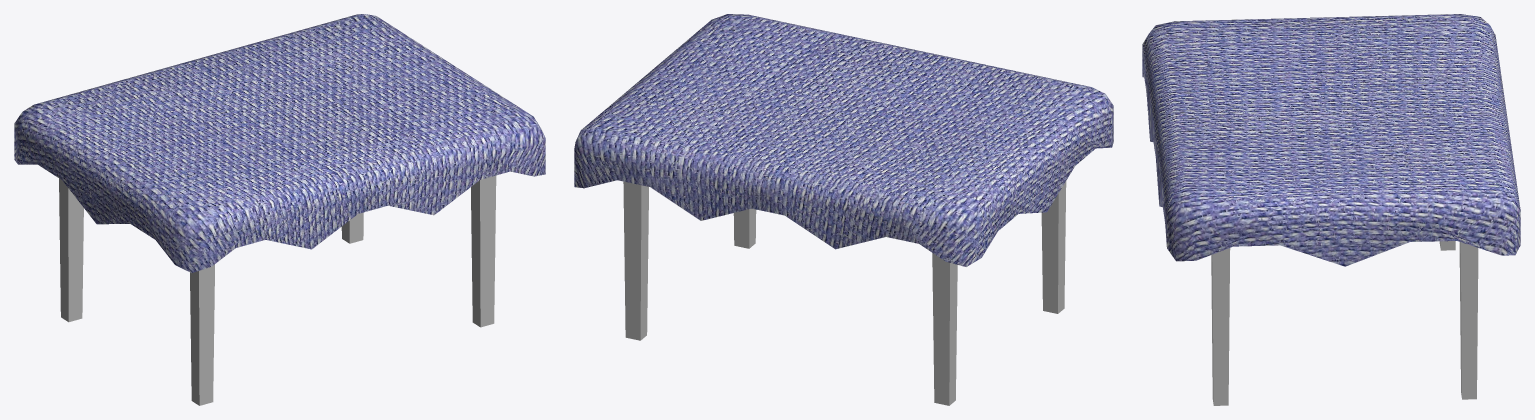
File: dinner table.fbx
3 views of the same model, side by side, from view 1: azimuth 30°, elevation 25°; view 2: azimuth 150°, elevation 25°; view 3: azimuth 270°, elevation 25° (orthographic). The views are drawn at different scales.
Parts seen in each view (by area): view 1: Cube.039; view 2: Cube.039; view 3: Cube.039.
Boxes of the visible parts, <box> form: Cube.039: <box>14,14,545,405</box>; Cube.039: <box>574,14,1113,405</box>; Cube.039: <box>1142,14,1520,405</box>.
Bounding box in the file's own units: 440 × 221 × 348.
